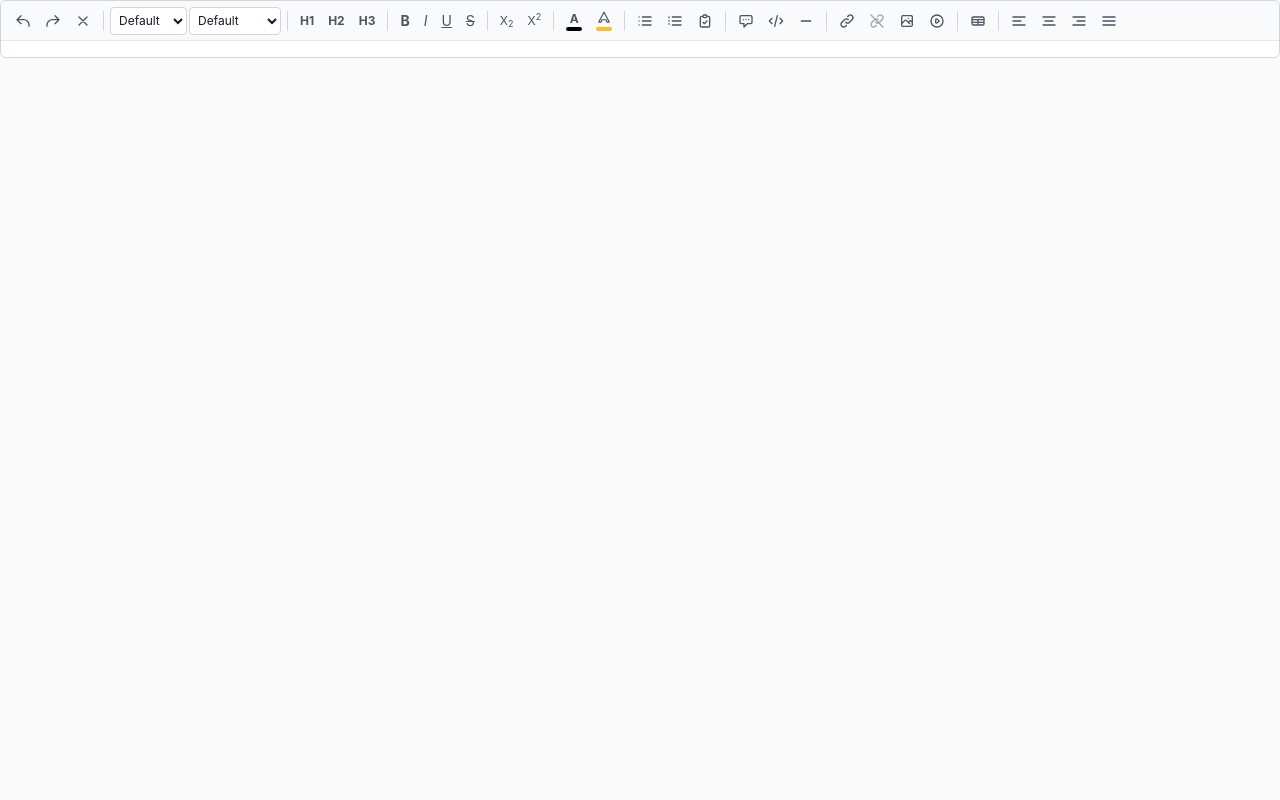
Test case: RichTextEditor › opens prompt dialog when link button is clicked
Click the button titled "Link".
click(847, 20)  # box x1=833 y1=6 x2=861 y2=34
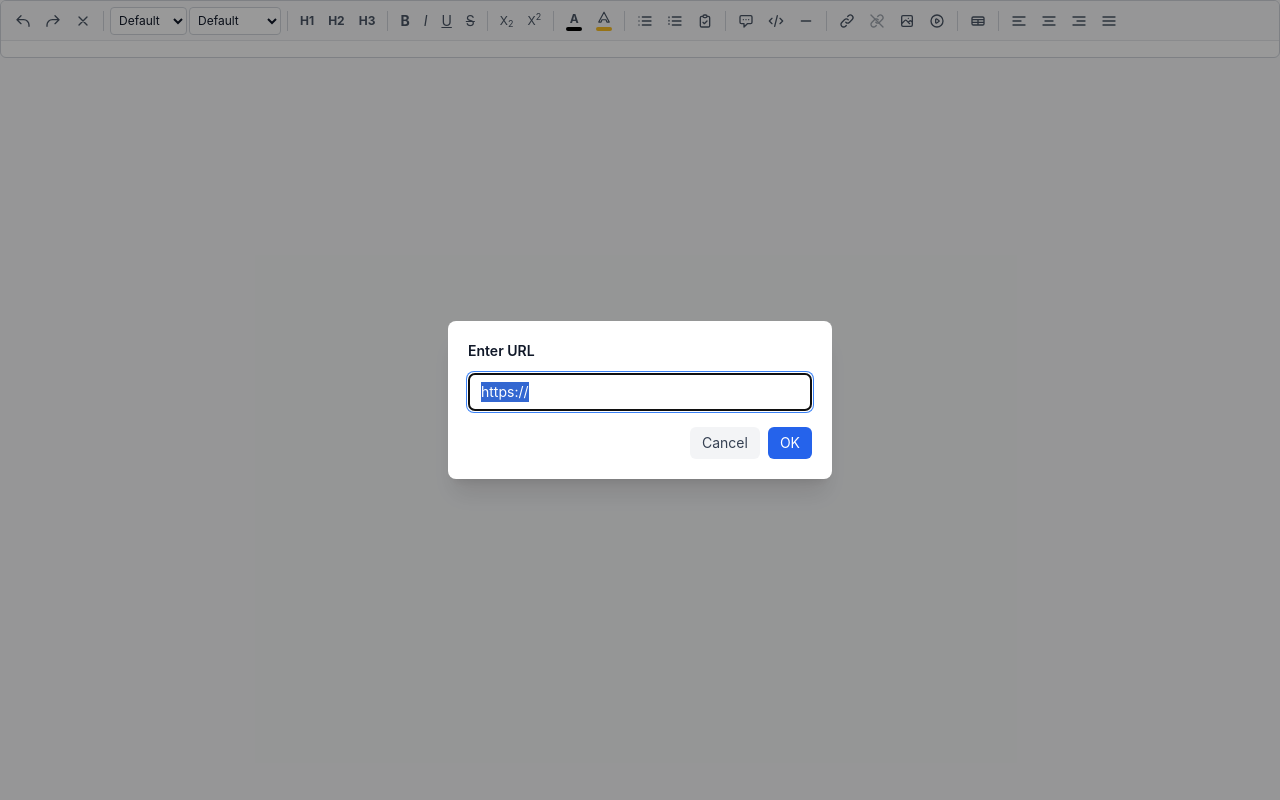
Now the heading "Enter URL" is shown, box x1=468 y1=342 x2=535 y2=359
